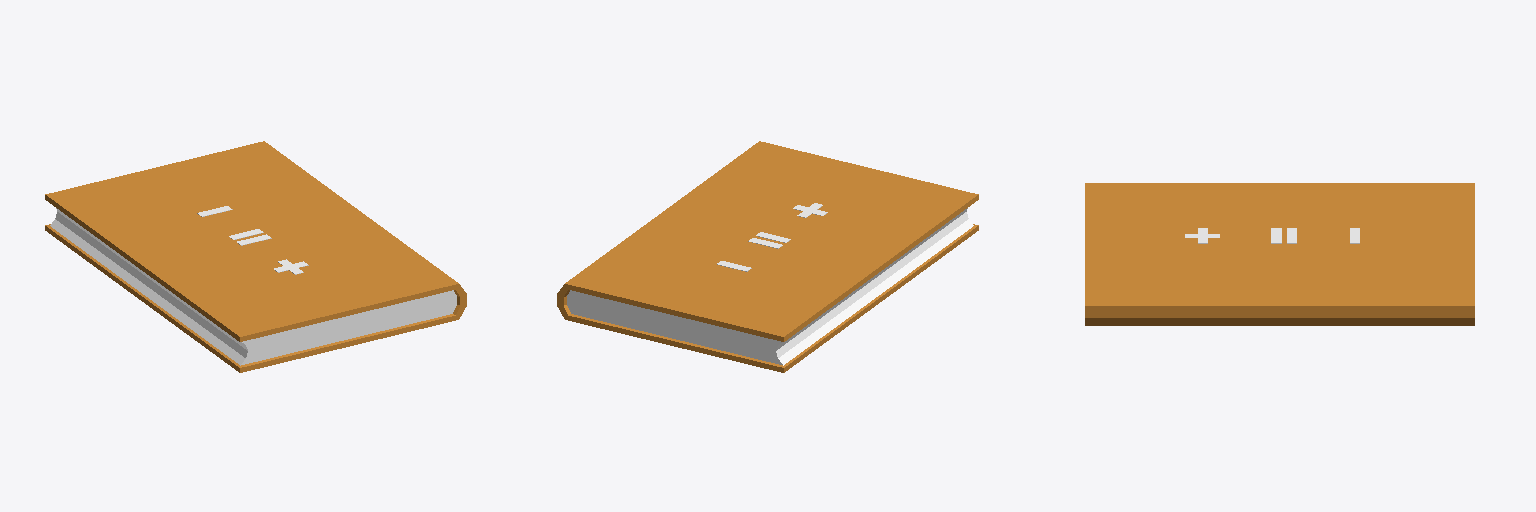
Rendered from Textbook_01.obj.
3 renders of one model, left to right at view 1: azimuth 30°, elevation 25°; view 2: azimuth 150°, elevation 25°; view 3: azimuth 270°, elevation 25°, orthographic.
Visible parts, largest first — view 1: Textbook_01_Cube.043; view 2: Textbook_01_Cube.043; view 3: Textbook_01_Cube.043.
Part boxes in pixels (bbox=[...]): Textbook_01_Cube.043: bbox=[45, 141, 466, 372]; Textbook_01_Cube.043: bbox=[557, 141, 978, 372]; Textbook_01_Cube.043: bbox=[1085, 183, 1474, 325].
Size of the model in its own units: 10.36 by 1.6 by 15.4.